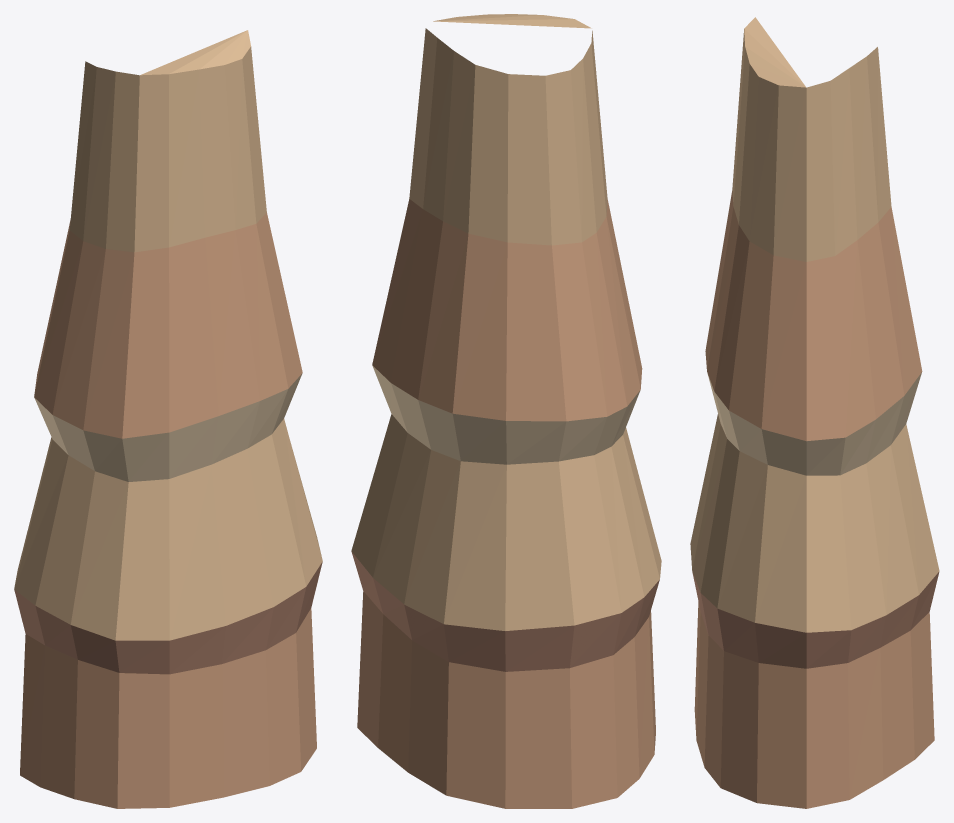
The picture shows the model from 3 angles, left to right: view 1: azimuth 30°, elevation 25°; view 2: azimuth 150°, elevation 25°; view 3: azimuth 270°, elevation 25°; orthographic projection. The views are drawn at different scales.
Size of the model in its own units: 19.44 by 47.39 by 15.23.
